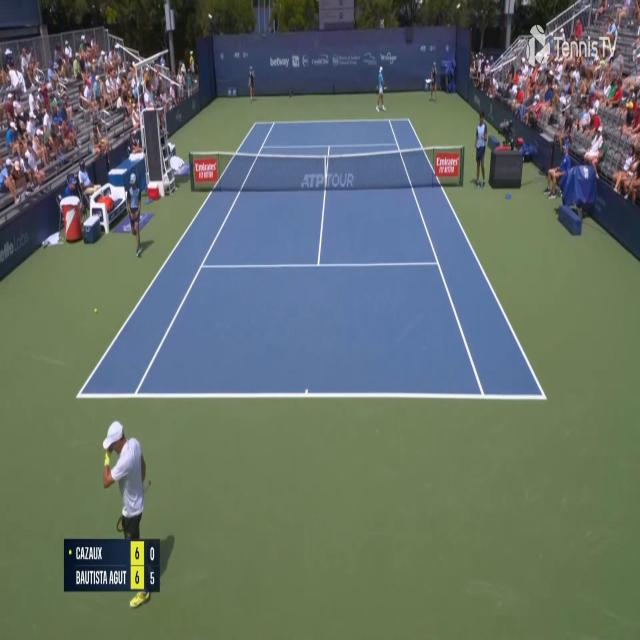tennis-player: (102, 415, 154, 544), (375, 62, 387, 112)
